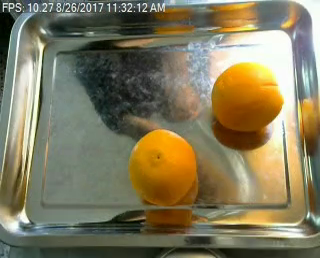Orange: (210, 62, 284, 133), (128, 129, 195, 206)
